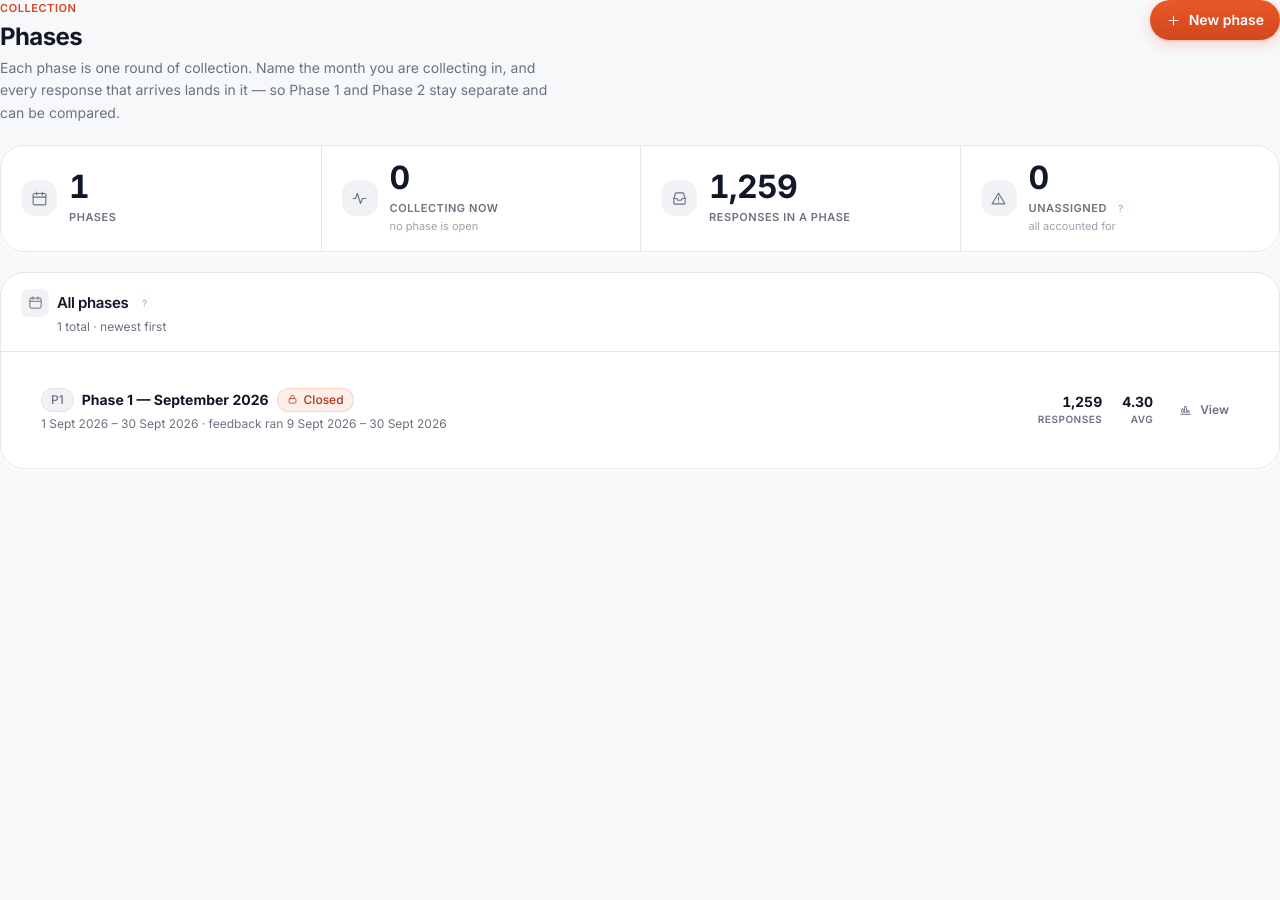
Test: adjusting the dates when collection runs over › offers an Adjust control, because a month will eventually not be enough
What coordinates should you click on to do the following:
click the button "New phase"
I would click on:
 (1215, 20)
Its box is x1=1150 y1=0 x2=1279 y2=40.
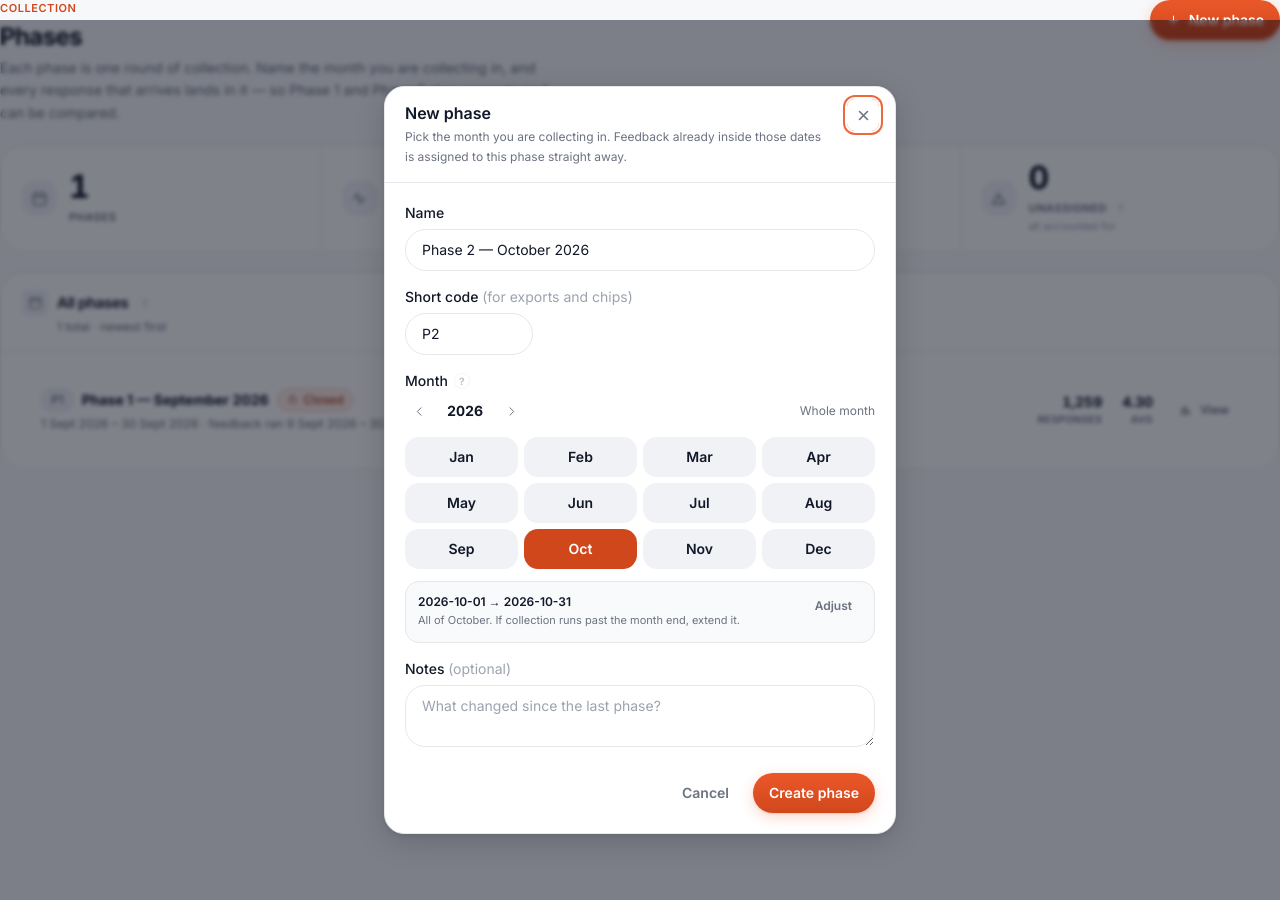
What coordinates should you click on to do the following:
click the button "Nov"
I would click on:
 (700, 549)
Its box is x1=643 y1=529 x2=756 y2=569.
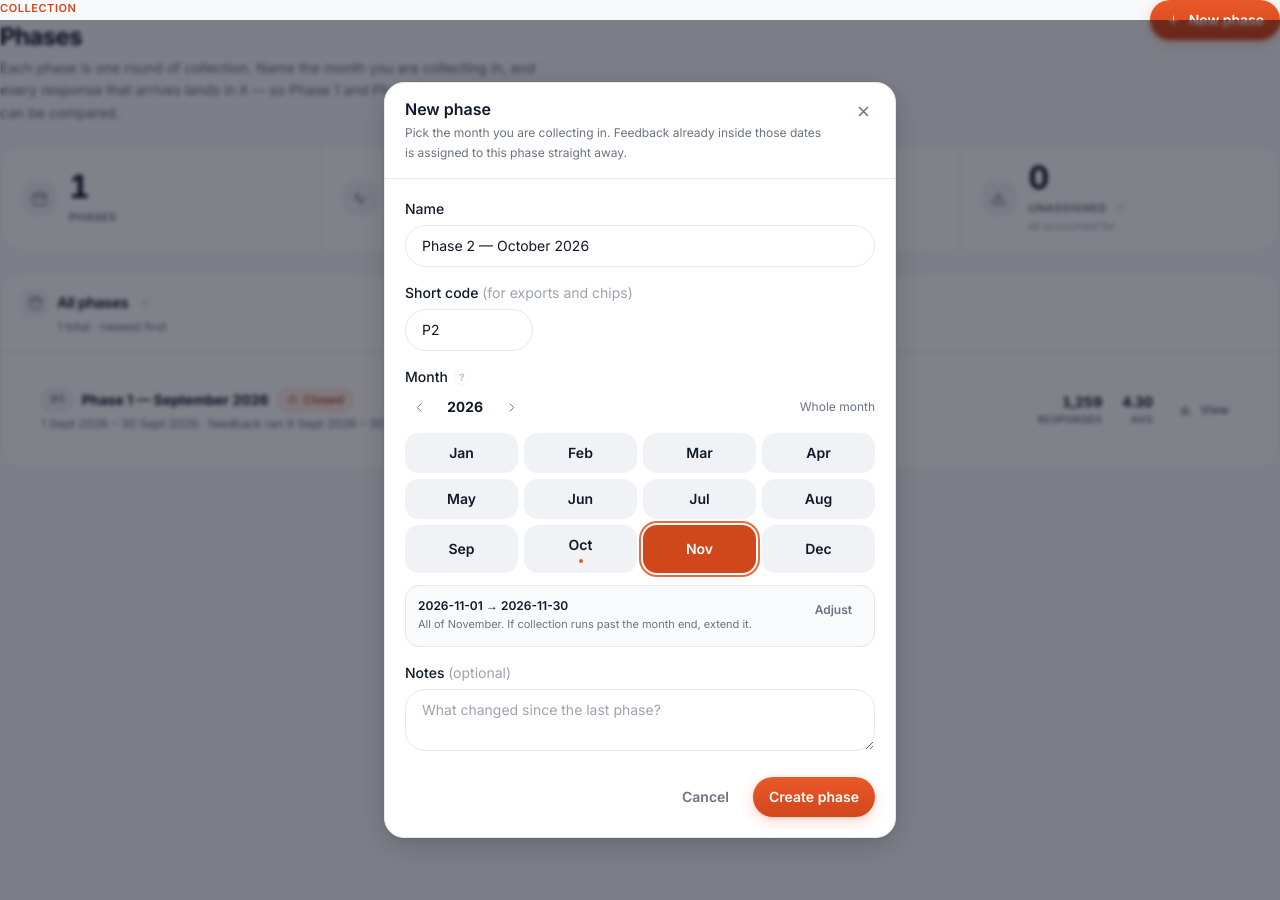
What coordinates should you click on to do the following:
click the button "Adjust"
I would click on:
 (833, 610)
Its box is x1=805 y1=598 x2=862 y2=622.
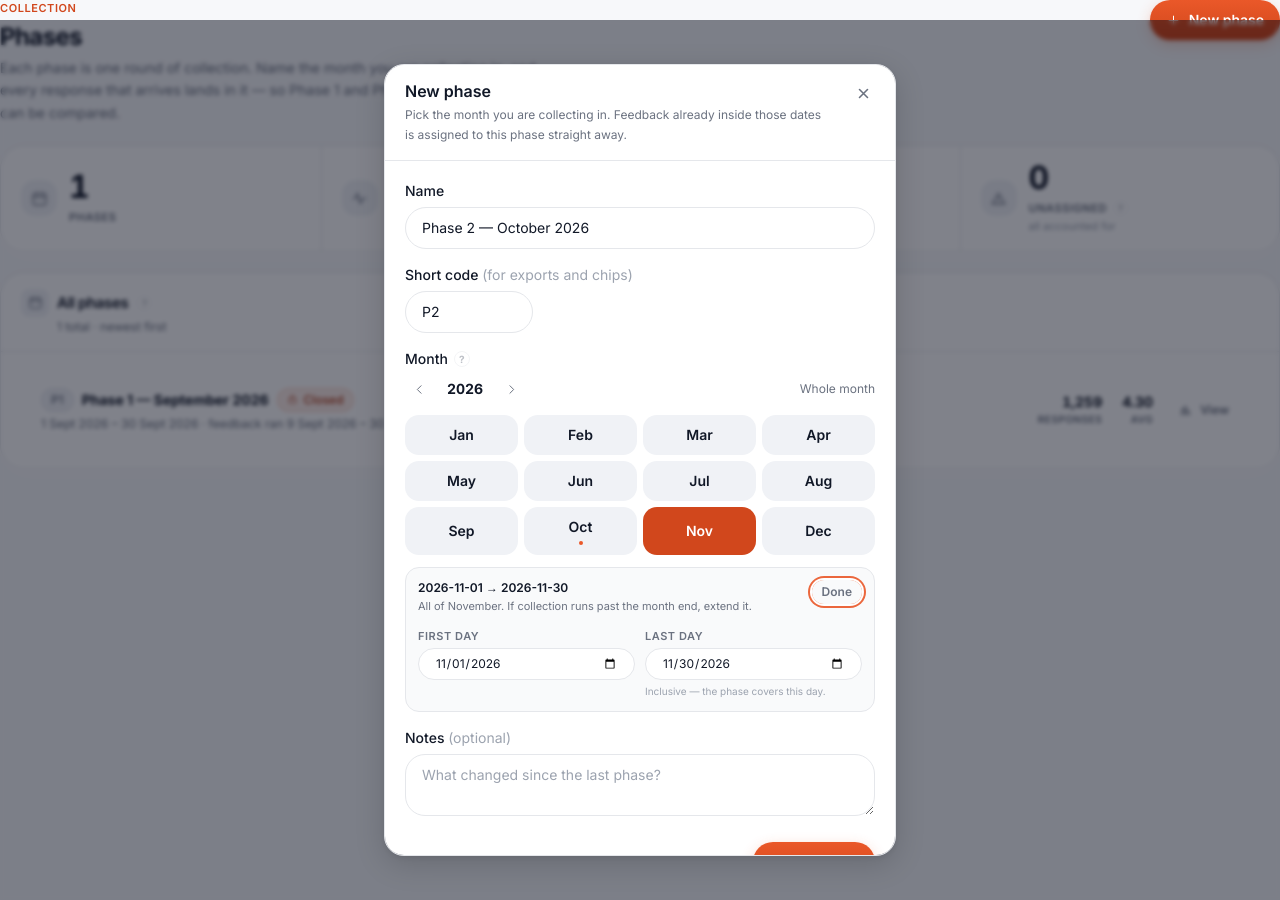
Result: the date field labelled "First day" is shown at x1=418 y1=648 x2=635 y2=680
Result: the date field labelled "Last day Inclusive — the phase covers this day." is shown at x1=645 y1=648 x2=862 y2=680
